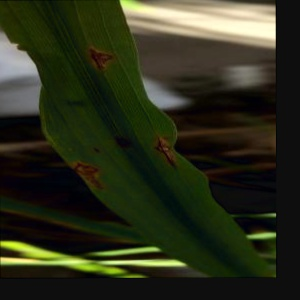Brown_Spot: (68, 19, 135, 82), (52, 141, 108, 194), (139, 115, 185, 176)
